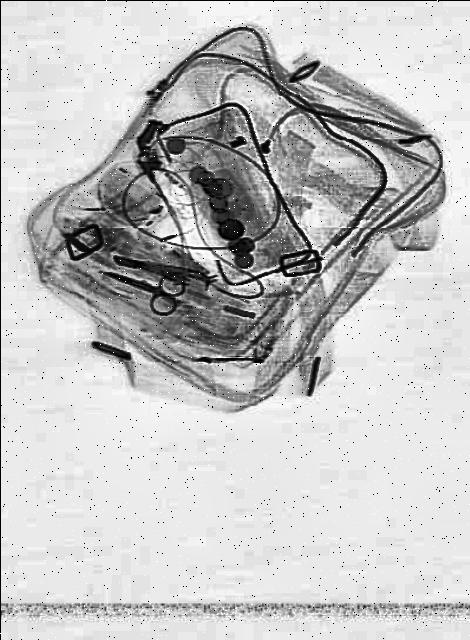Scissors: (100, 252, 188, 322)
